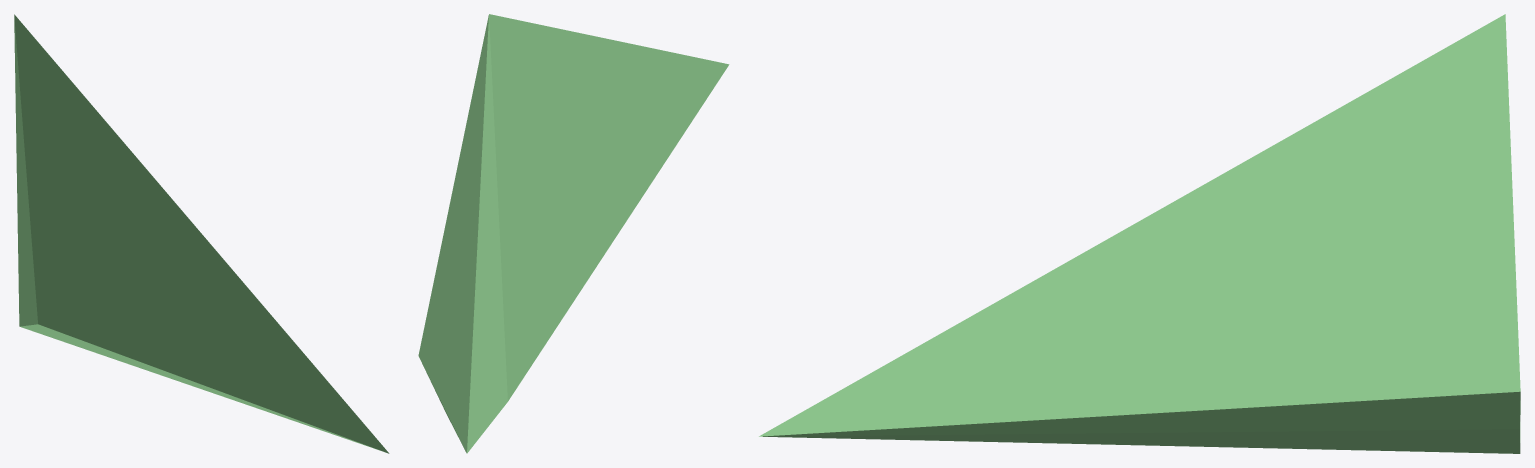
File: linkhou_robot_base_coll_5.dae
3 views of the same model, side by side, from view 1: azimuth 30°, elevation 25°; view 2: azimuth 150°, elevation 25°; view 3: azimuth 270°, elevation 25° (orthographic). The views are drawn at different scales.
Parts seen in each view (by area): view 1: Node_0000029808433830; view 2: Node_0000029808433830; view 3: Node_0000029808433830.
Part boxes in pixels (<box>): Node_0000029808433830: <box>14,14,389,453</box>; Node_0000029808433830: <box>418,14,729,453</box>; Node_0000029808433830: <box>759,14,1520,453</box>.
Bounding box in the file's own units: 0.0333 × 0.1014 × 0.1617.
